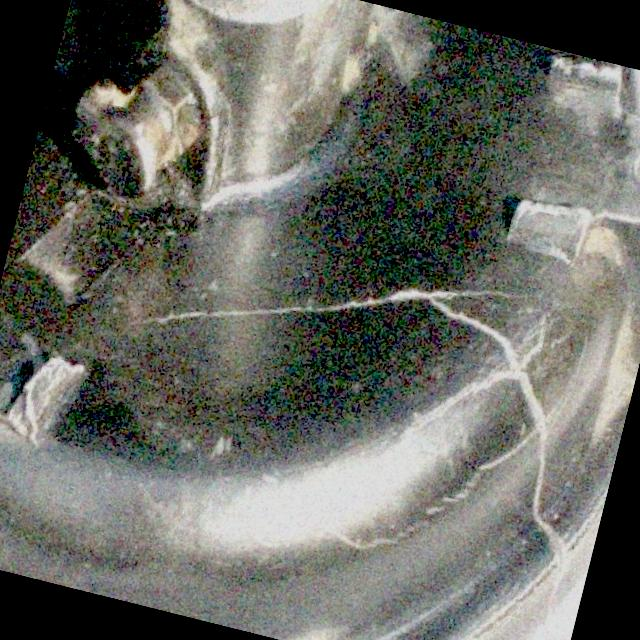crack: (371, 256, 528, 332), (429, 354, 519, 431), (154, 283, 264, 344), (269, 274, 372, 334), (477, 424, 534, 479), (522, 436, 558, 518), (509, 376, 552, 432), (488, 334, 528, 372)
